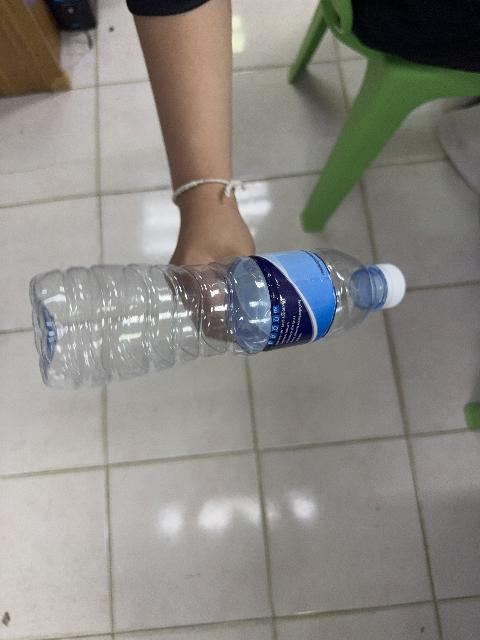bottle: (30, 250, 405, 388)
